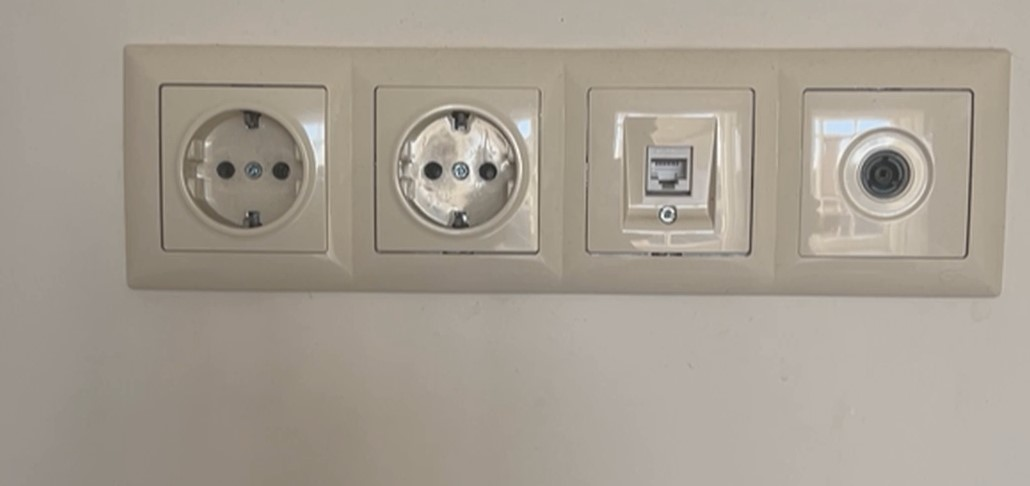Network Outlet: (565, 51, 777, 297)
Power Outlet: (121, 44, 352, 292), (354, 46, 565, 288)
TV Socket: (777, 54, 1007, 301)
